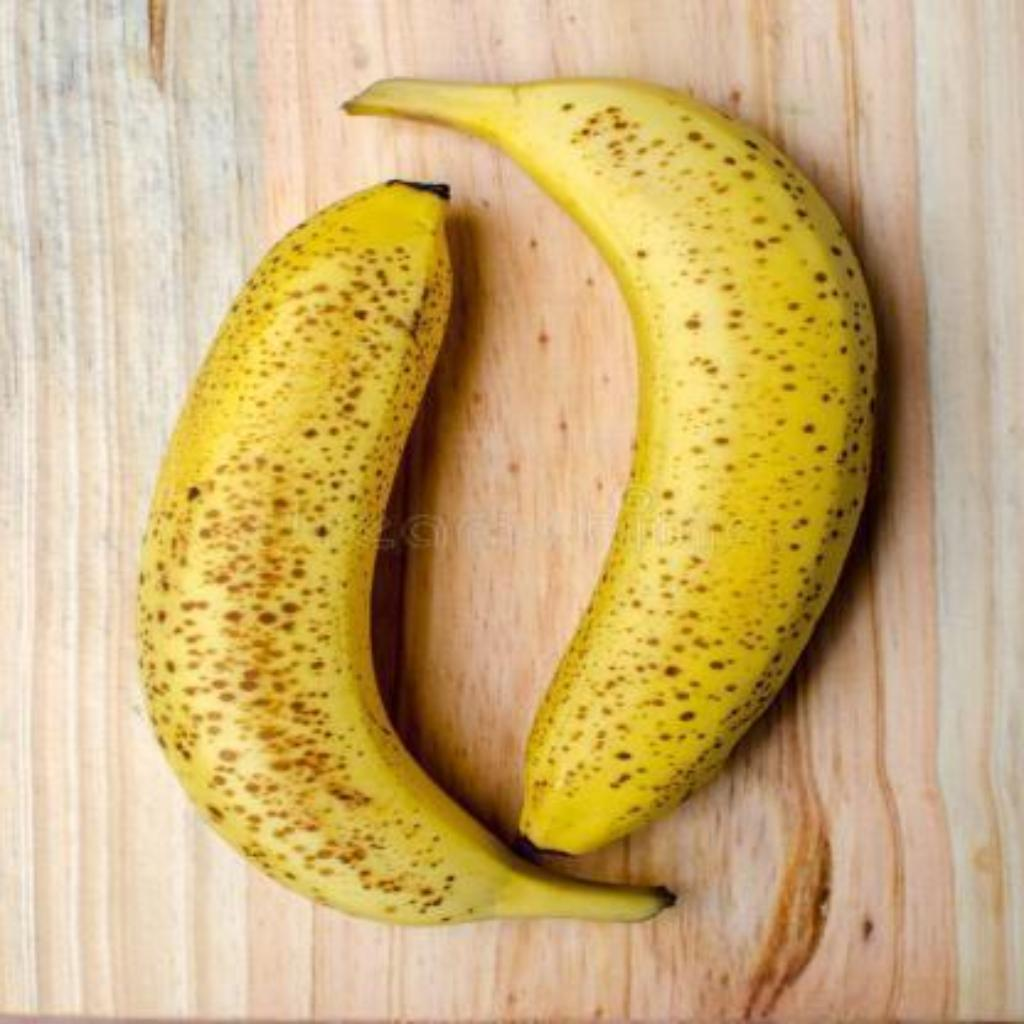banana: (133, 182, 674, 930), (514, 128, 876, 859)
